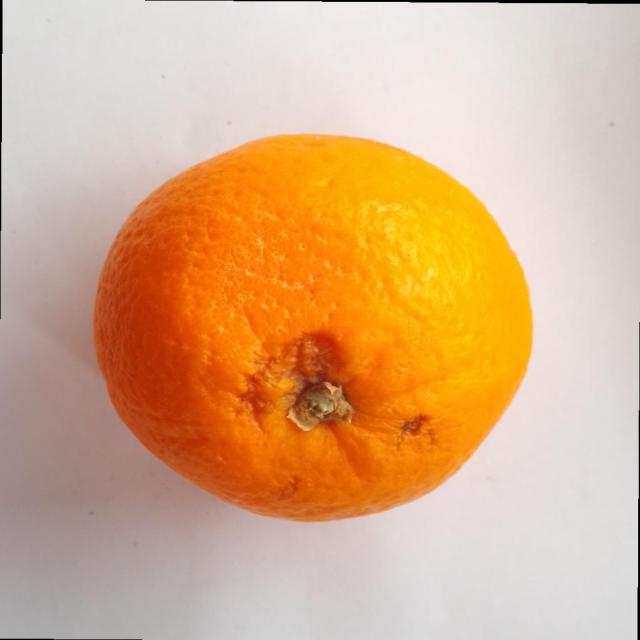fresh orange: (92, 131, 534, 523)
